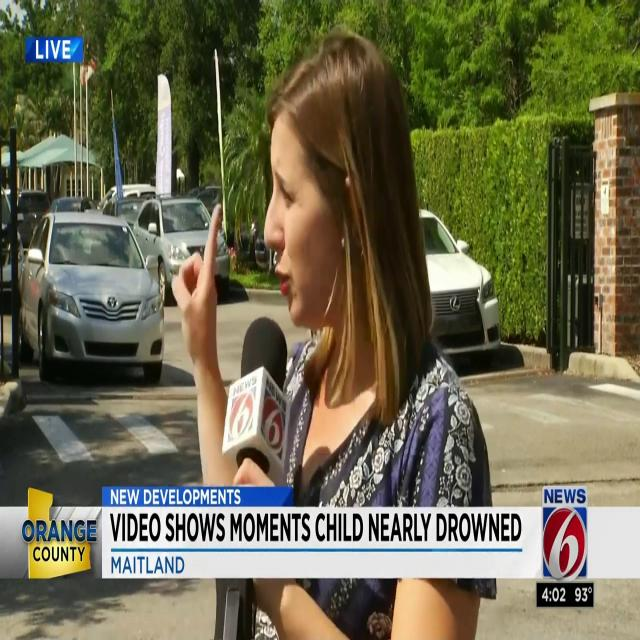adult: (176, 41, 481, 640)
